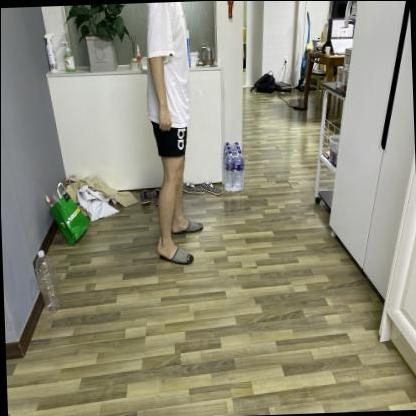no_safety-shoe: (147, 237, 196, 269), (163, 216, 207, 241)
